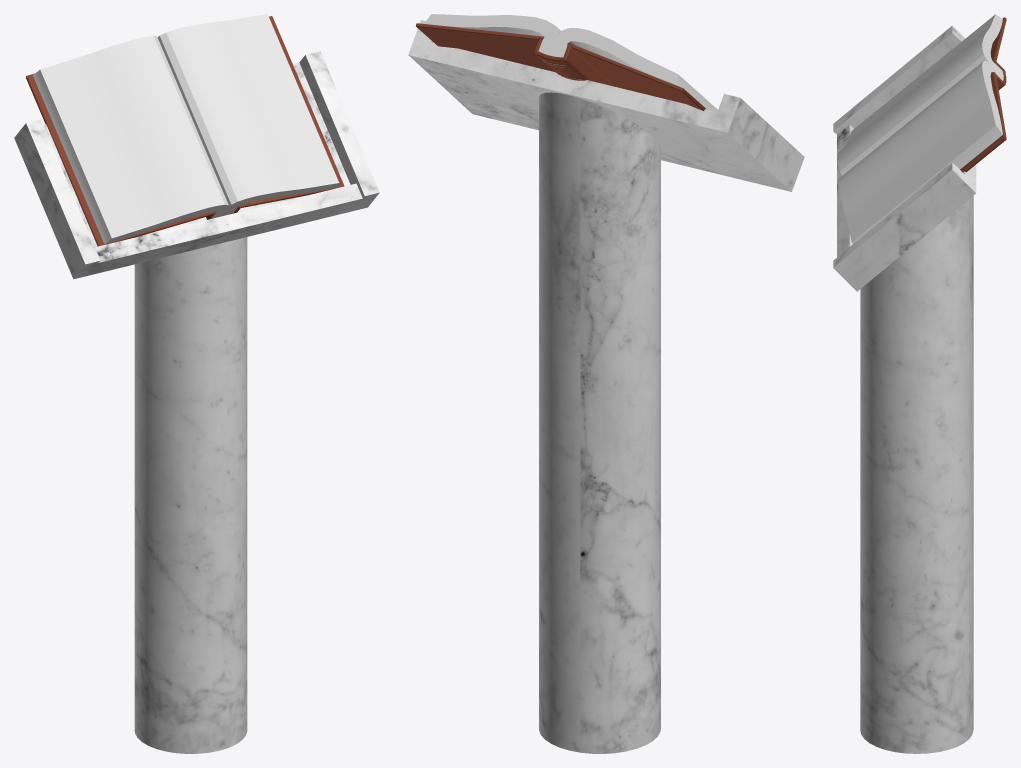
The model's file is Book.fbx.
3 renders of one model, left to right at view 1: azimuth 30°, elevation 25°; view 2: azimuth 150°, elevation 25°; view 3: azimuth 270°, elevation 25°, orthographic. The views are drawn at different scales.
Visible parts, largest first — view 1: Stand, Page1, Page2, Cover; view 2: Stand, Cover; view 3: Stand, Page2, Page1, Cover.
Boxes of the visible parts, left/top/right/bottom form: Stand: left=14, top=51, right=379, bottom=753; Page1: left=40, top=35, right=228, bottom=238; Page2: left=157, top=14, right=338, bottom=206; Cover: left=26, top=16, right=344, bottom=246; Stand: left=408, top=20, right=804, bottom=753; Cover: left=416, top=14, right=717, bottom=111; Stand: left=833, top=25, right=976, bottom=753; Page2: left=838, top=61, right=995, bottom=241; Page1: left=838, top=14, right=995, bottom=175; Cover: left=852, top=14, right=1006, bottom=243.
Bounding box in the file's own units: 120 × 263 × 61.23.
